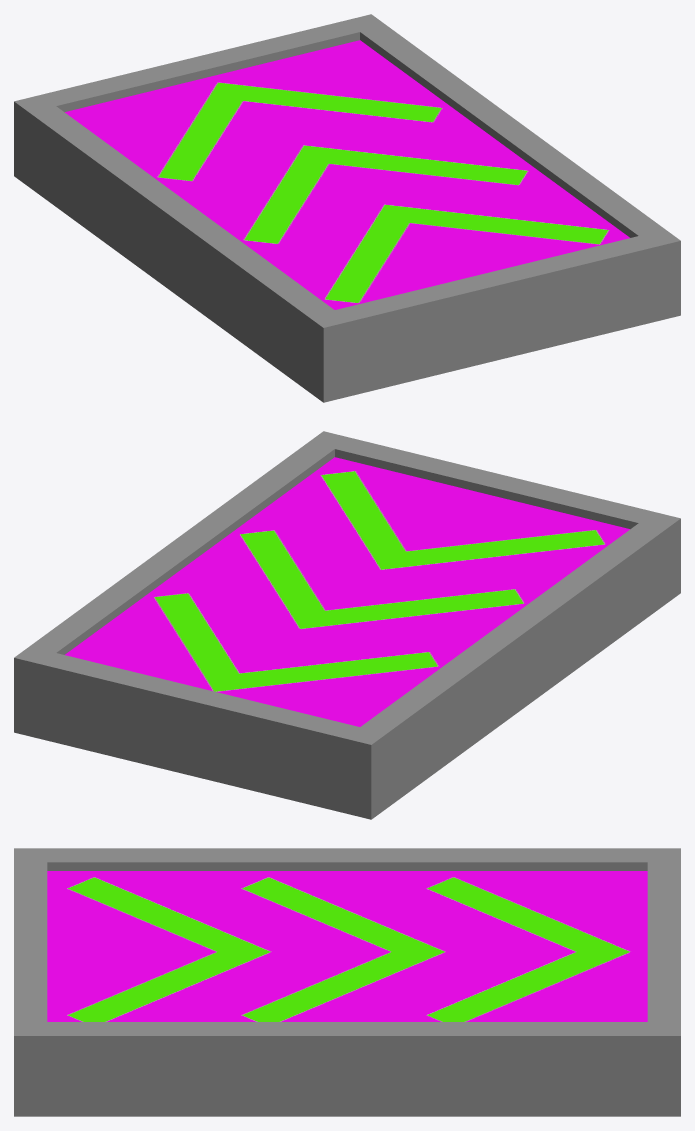
The model's file is Discopad.FBX.
3 views of the same model, one above another, from view 1: azimuth 30°, elevation 25°; view 2: azimuth 150°, elevation 25°; view 3: azimuth 270°, elevation 25° (orthographic). The views are drawn at different scales.
Visible parts, largest first — view 1: Box001, Light001; view 2: Box001, Light001; view 3: Light001, Box001.
Part boxes in pixels (bbox=[...]): Box001: bbox=[14, 14, 680, 402]; Light001: bbox=[65, 40, 629, 309]; Box001: bbox=[14, 431, 680, 819]; Light001: bbox=[65, 457, 629, 726]; Light001: bbox=[47, 871, 647, 1021]; Box001: bbox=[14, 848, 680, 1116].
Size of the model in its own units: 39.37 by 7.87 by 59.06.
2 materials, 1 textured.
